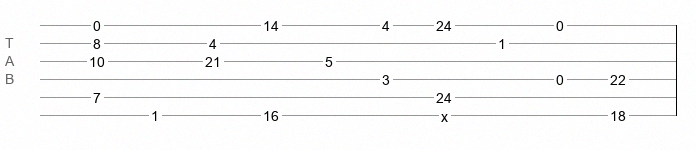0: (93, 18, 101, 28), (556, 18, 564, 28), (556, 72, 564, 82)
1: (151, 108, 159, 118), (498, 36, 506, 46)
10: (89, 54, 105, 64)
14: (263, 18, 279, 28)
16: (263, 108, 279, 118)
18: (610, 108, 626, 118)
21: (205, 54, 221, 64)
22: (610, 72, 626, 82)
24: (436, 90, 452, 100), (436, 18, 452, 28)
3: (382, 72, 390, 82)
4: (209, 36, 217, 46), (382, 18, 390, 28)
5: (325, 54, 333, 64)
7: (93, 90, 101, 100)
8: (93, 36, 101, 46)
x: (441, 109, 448, 117)
